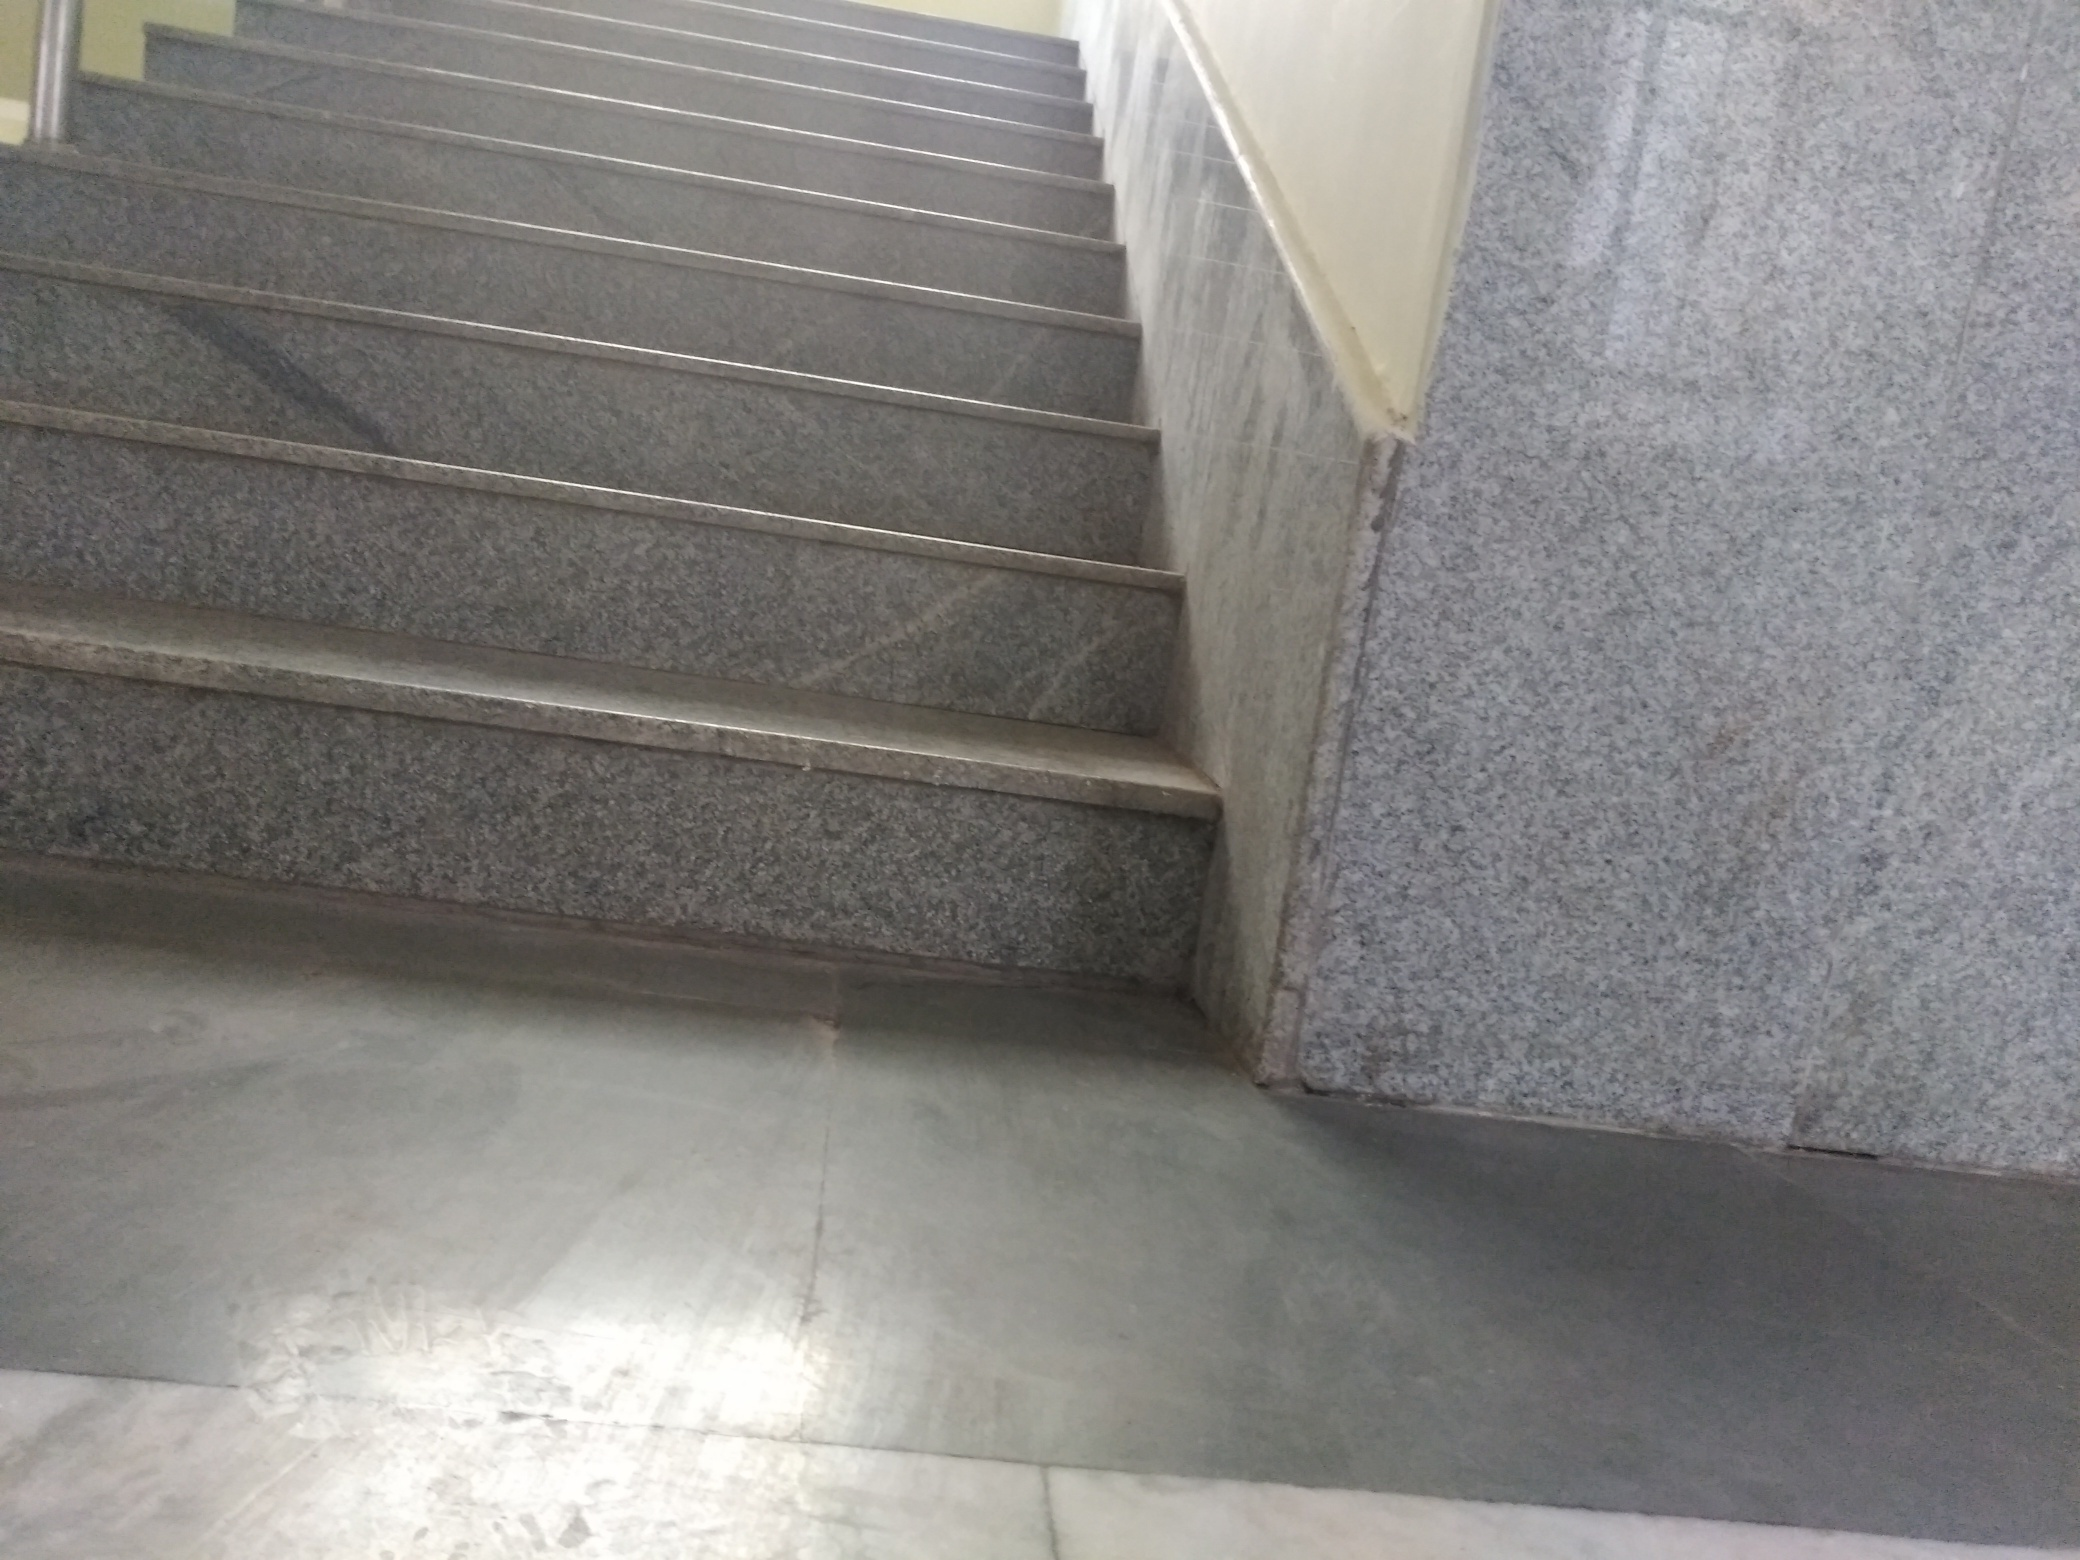stairs_up: (21, 39, 1087, 880)
